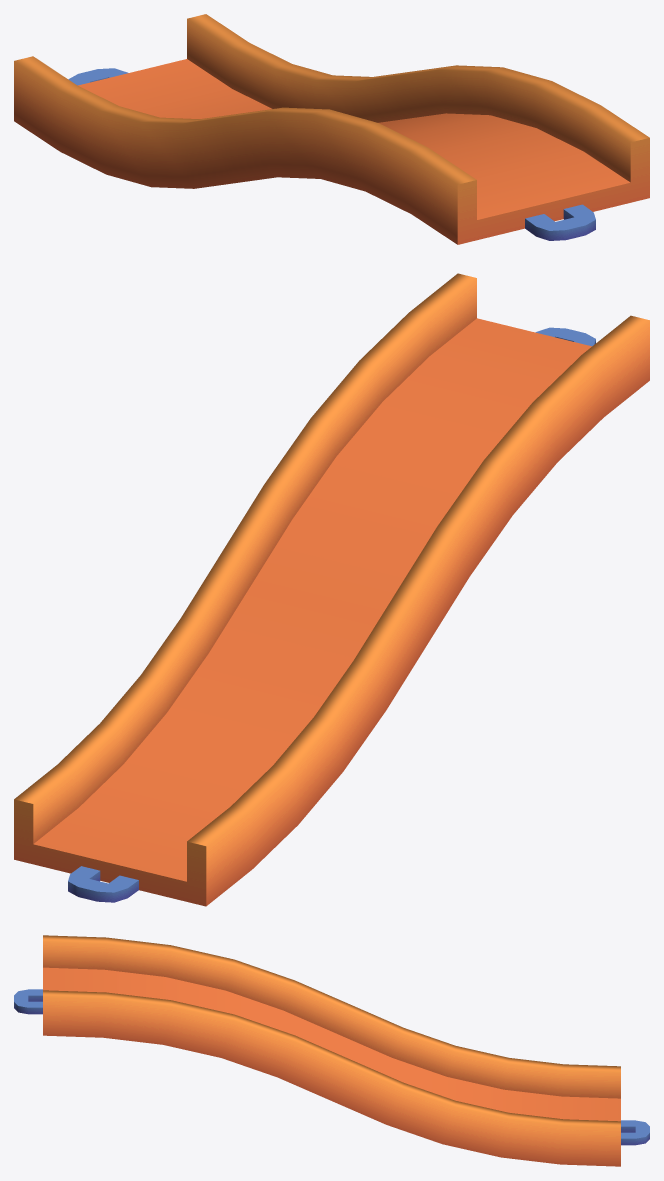
Rendered from track-narrow-straight-hill-complete.glb.
The picture shows the model from 3 angles, top to bottom: view 1: azimuth 30°, elevation 25°; view 2: azimuth 150°, elevation 25°; view 3: azimuth 270°, elevation 25°; orthographic projection. The views are drawn at different scales.
Parts seen in each view (by area): view 1: track-narrow-straight-hill-complete; view 2: track-narrow-straight-hill-complete; view 3: track-narrow-straight-hill-complete.
Part boxes in pixels (box(x1,y1,x2,y2)): track-narrow-straight-hill-complete: box(14, 14, 649, 244); track-narrow-straight-hill-complete: box(14, 273, 649, 906); track-narrow-straight-hill-complete: box(14, 935, 649, 1166).
Bounding box in the file's own units: 3 × 3.9 × 13.2.
1 material, 1 textured.
